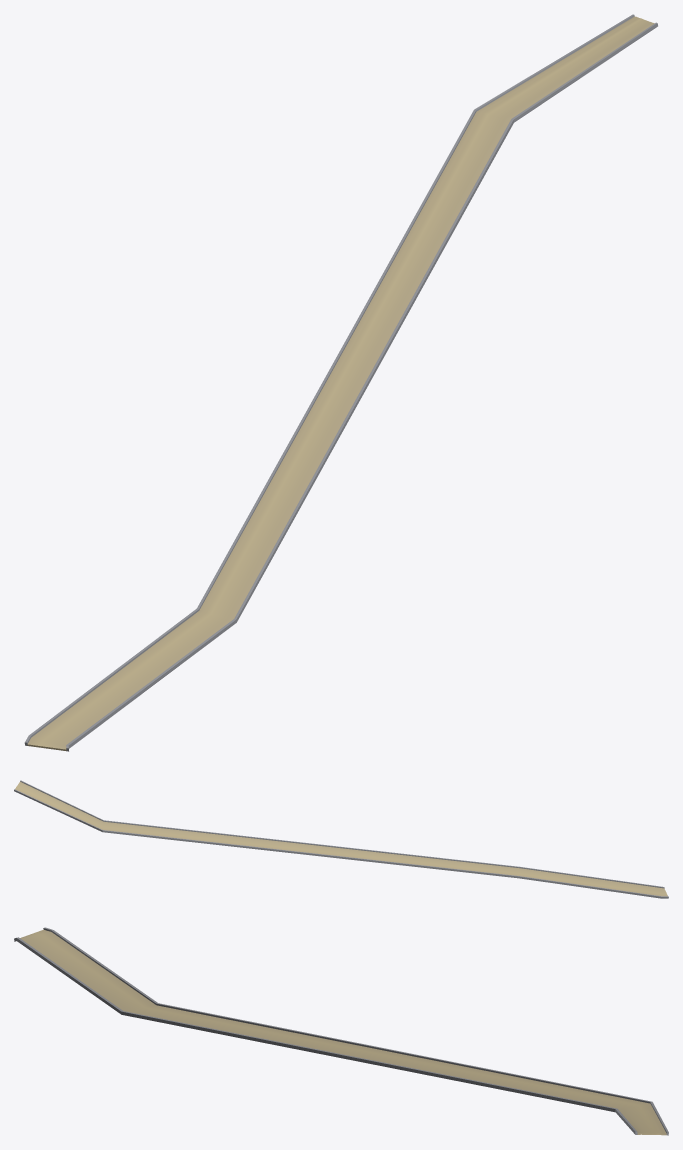
File: sidewalk_10.fbx
3 views of the same model, one above another, from view 1: azimuth 30°, elevation 25°; view 2: azimuth 150°, elevation 25°; view 3: azimuth 270°, elevation 25° (orthographic). The views are drawn at different scales.
Parts seen in each view (by area): view 1: sidewalk_09; view 2: sidewalk_09; view 3: sidewalk_09.
Part boxes in pixels (box(x1,y1,x2,y2)): sidewalk_09: box(24, 14, 657, 751); sidewalk_09: box(14, 780, 668, 898); sidewalk_09: box(14, 927, 668, 1135).
Size of the model in its own units: 7.86 by 1.9 by 5.19.
1 material, 1 textured.
